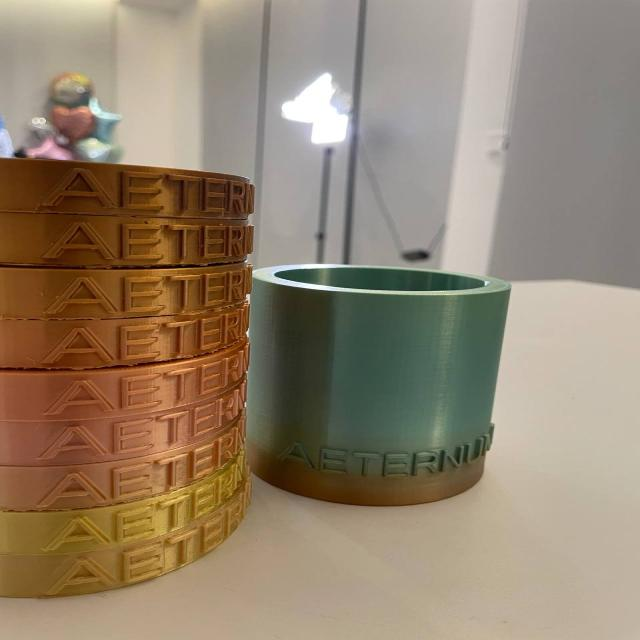Without deffect: (2, 134, 539, 613)
